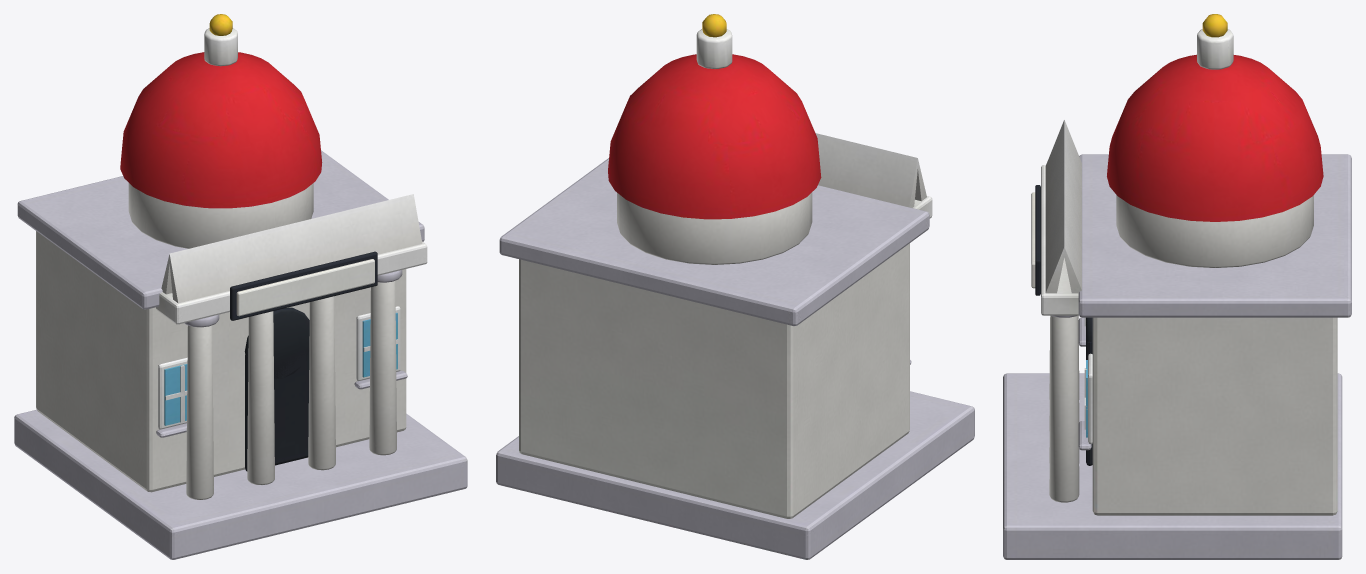
The model's file is atelier1.glb.
3 views of the same model, side by side, from view 1: azimuth 30°, elevation 25°; view 2: azimuth 150°, elevation 25°; view 3: azimuth 270°, elevation 25° (orthographic). The views are drawn at different scales.
Visible parts, largest first — view 1: appui__stone; view 2: appui__stone; view 3: appui__stone.
Boxes of the visible parts, box(x1,y1,x2,y2) form: appui__stone: box(14, 14, 467, 559); appui__stone: box(496, 14, 974, 559); appui__stone: box(1003, 14, 1351, 559).
Bounding box in the file's own units: 3.9 × 5.49 × 3.7.
Materials: 1 (1 with a texture image).
